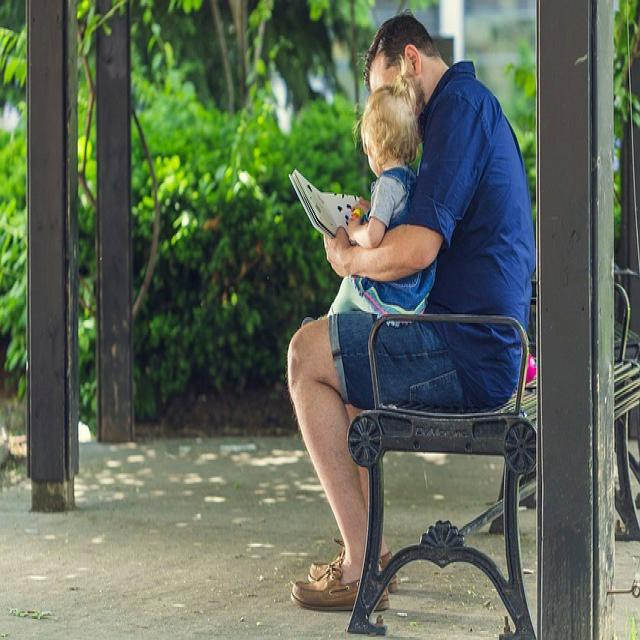adult: (289, 8, 536, 611)
child: (302, 75, 440, 327)
